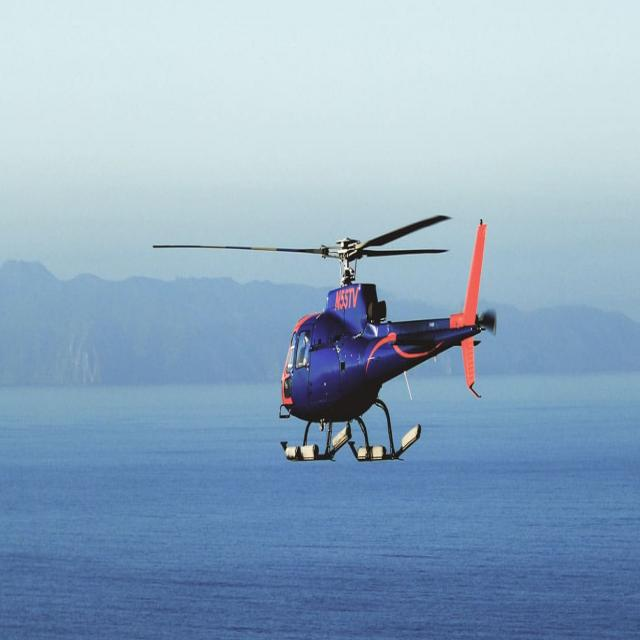helicopter: (146, 214, 502, 457)
